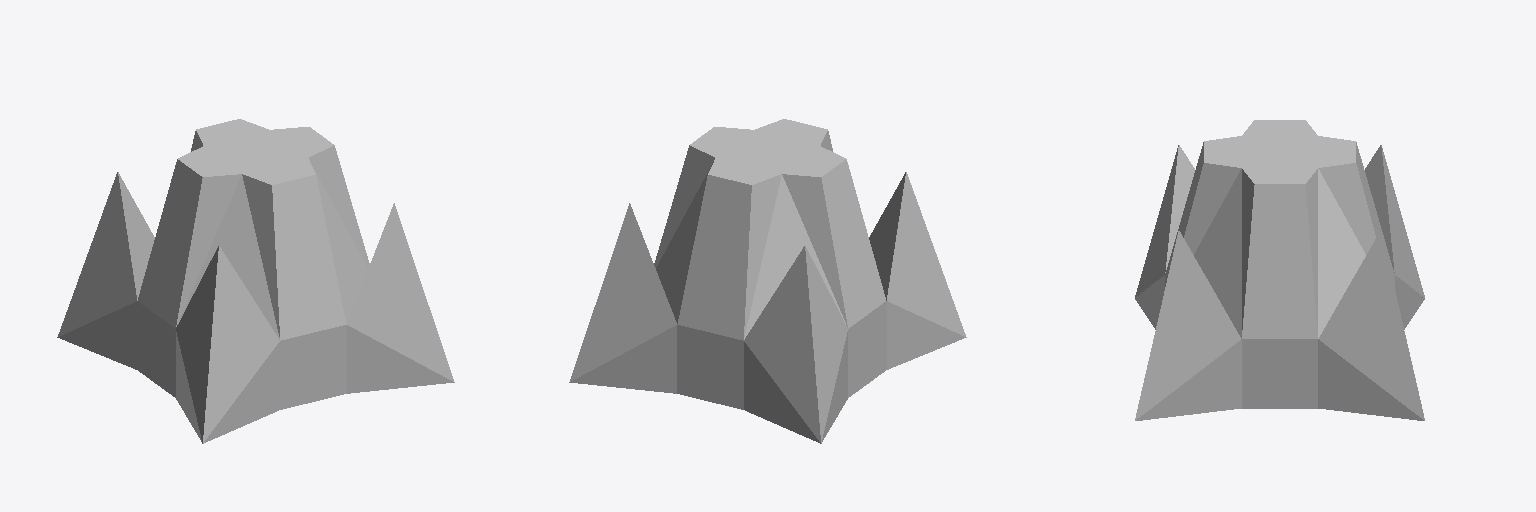
3 renders of one model, left to right at view 1: azimuth 30°, elevation 25°; view 2: azimuth 150°, elevation 25°; view 3: azimuth 270°, elevation 25°, orthographic.
Parts seen in each view (by area): view 1: Box02_sep12; view 2: Box02_sep12; view 3: Box02_sep12.
Part boxes in pixels (x1,y1,x2,y2): Box02_sep12: (57, 119, 454, 443); Box02_sep12: (569, 119, 966, 443); Box02_sep12: (1135, 120, 1424, 420).
Bounding box in the file's own units: 3.8 × 3 × 3.8.